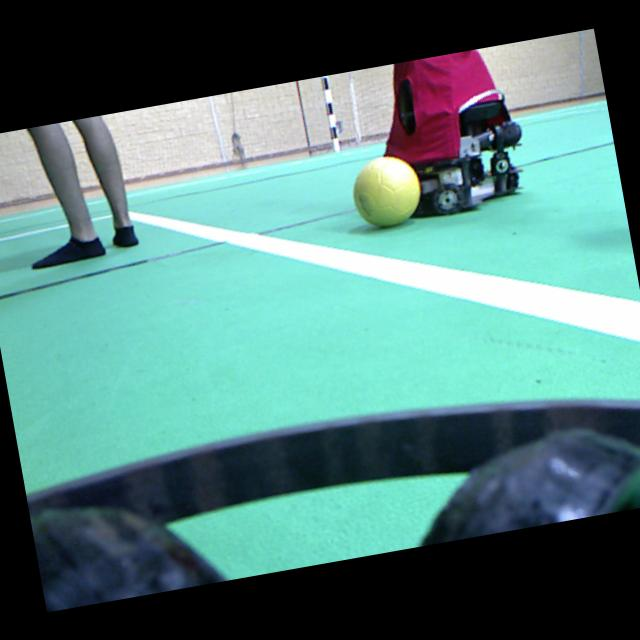ball: (353, 156, 419, 225)
